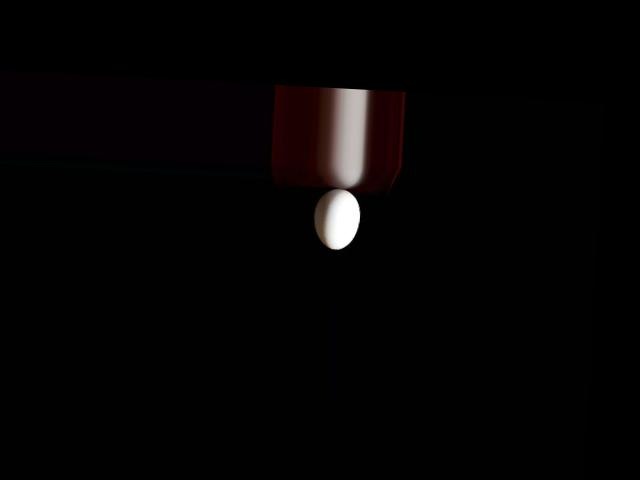egg: (313, 187, 361, 250)
